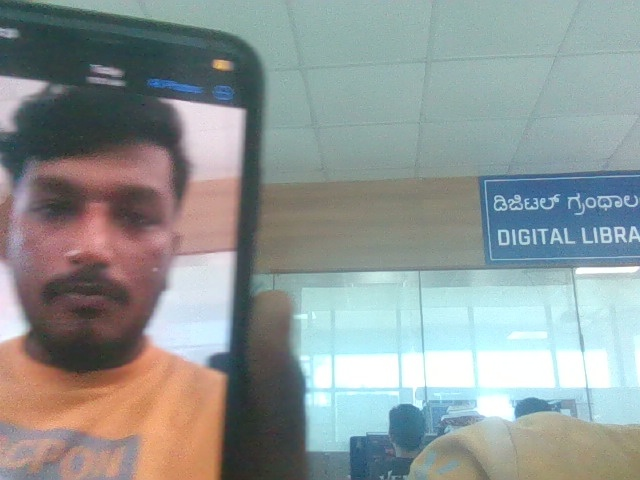fake: (0, 55, 228, 378)
